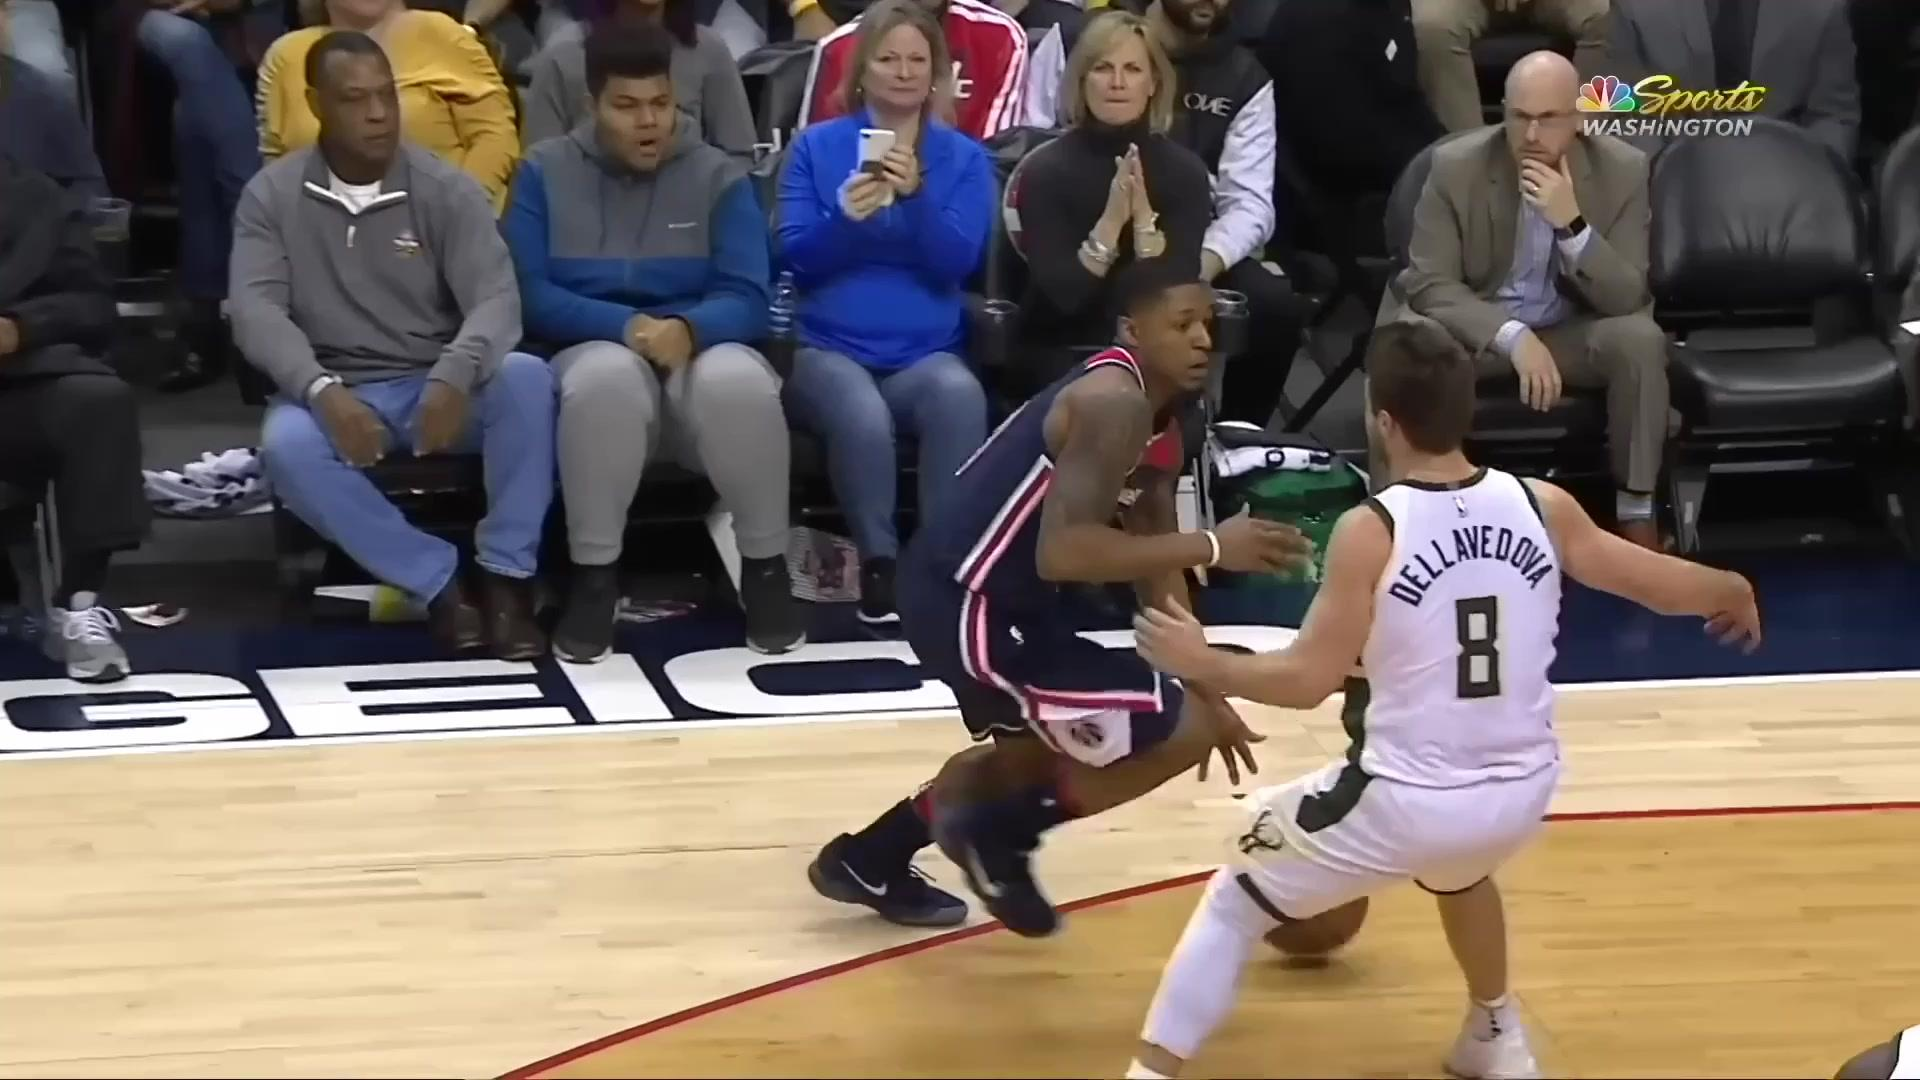no_foul: (882, 241, 1617, 1080)
